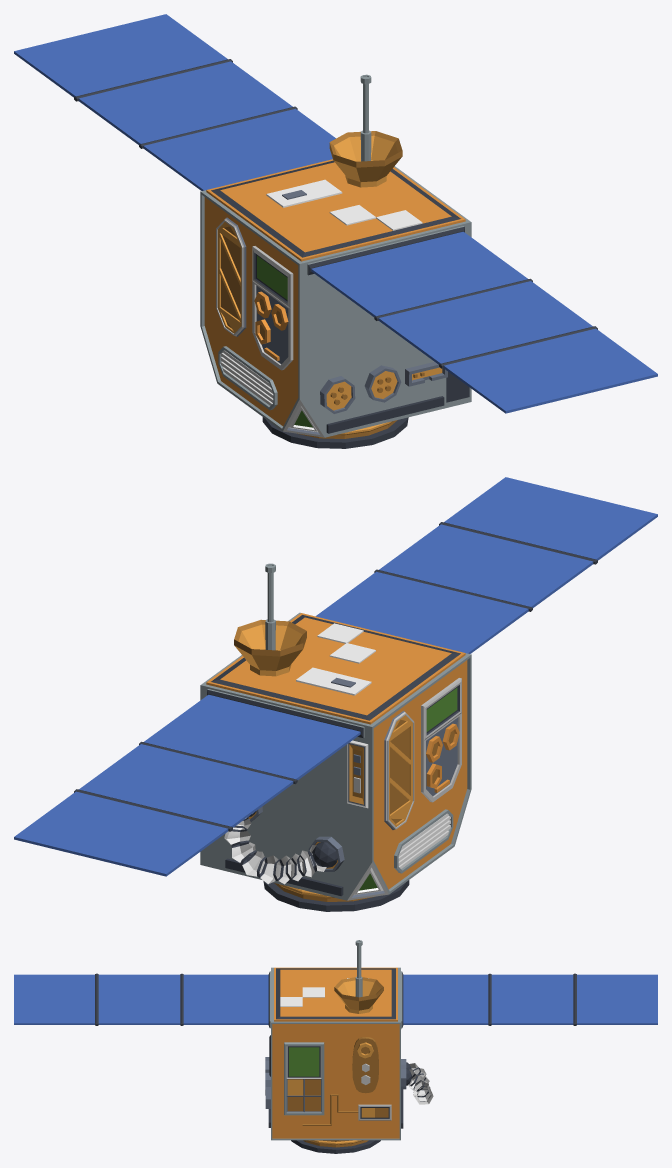
The model's file is satelite_copy.glb.
3 renders of one model, top to bottom at view 1: azimuth 30°, elevation 25°; view 2: azimuth 150°, elevation 25°; view 3: azimuth 270°, elevation 25°, orthographic. The views are drawn at different scales.
Parts seen in each view (by area): view 1: Cube; view 2: Cube; view 3: Cube.
Boxes of the visible parts, left/top/right/bottom form: Cube: left=14, top=14, right=657, bottom=448; Cube: left=14, top=477, right=657, bottom=911; Cube: left=14, top=940, right=657, bottom=1153.
Size of the model in its own units: 2.13 by 3.52 by 9.91.
